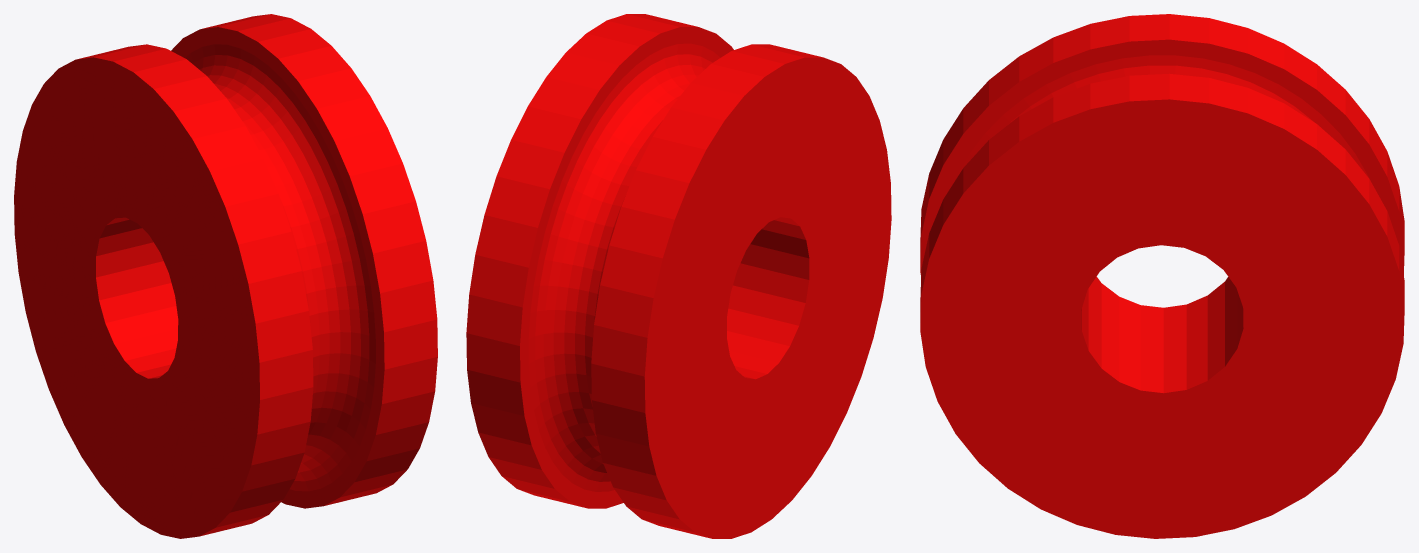
File: power_cart_wr1_visuals_wr1_mesh.obj
The picture shows the model from 3 angles, left to right: view 1: azimuth 30°, elevation 25°; view 2: azimuth 150°, elevation 25°; view 3: azimuth 270°, elevation 25°; orthographic projection.
Size of the model in its own units: 0.5 by 1.2 by 1.2.
